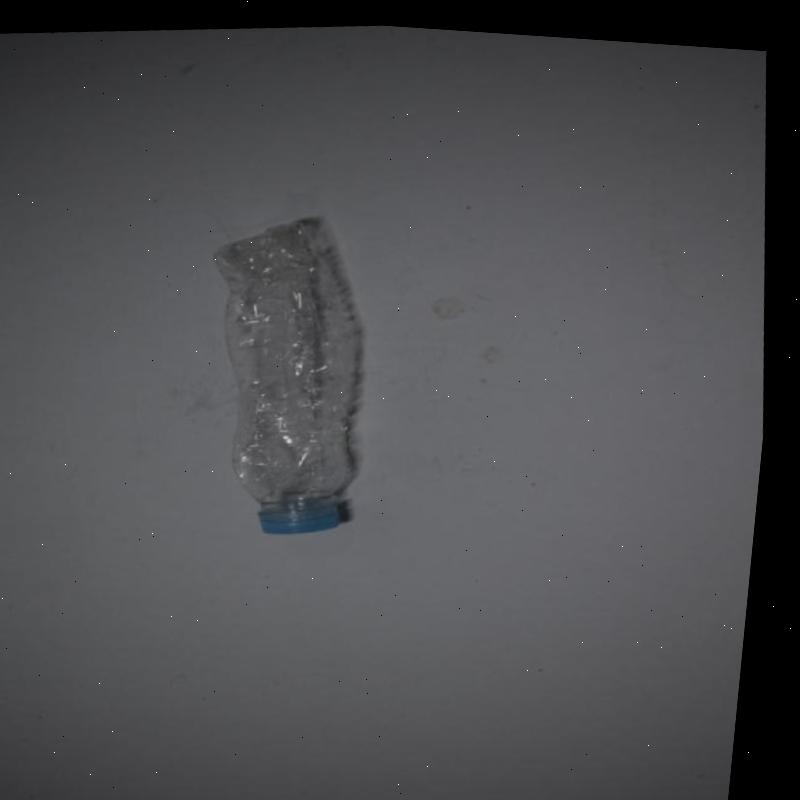botella: (187, 199, 401, 541)
